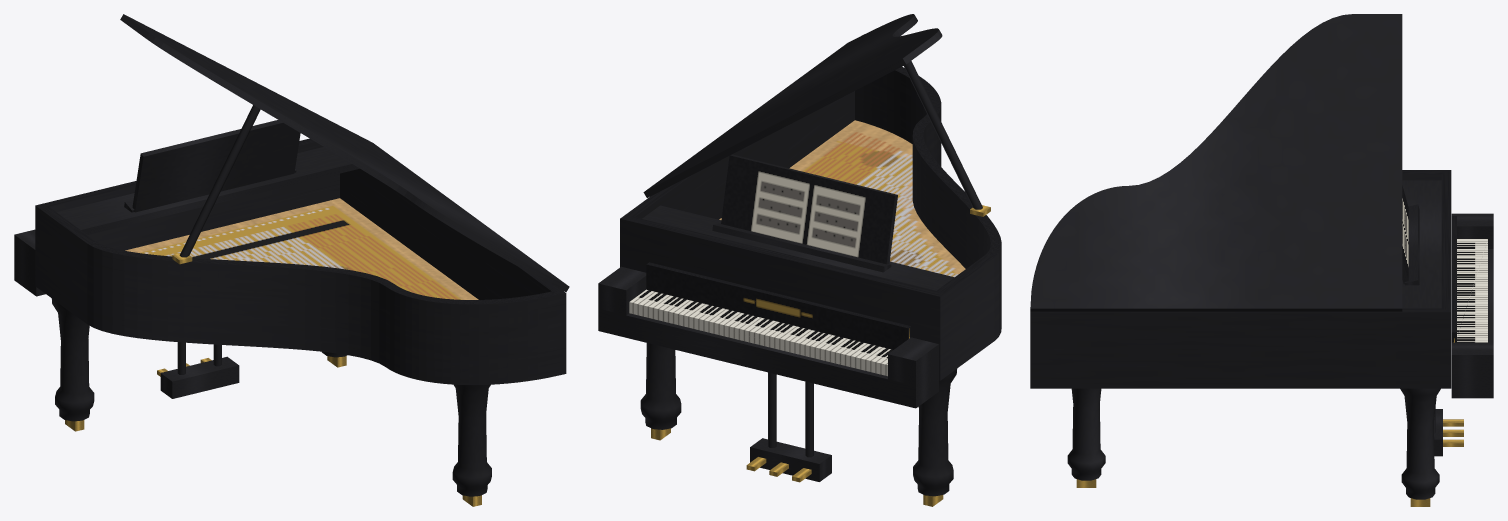
File: grandpiano.obj
The picture shows the model from 3 angles, left to right: view 1: azimuth 30°, elevation 25°; view 2: azimuth 150°, elevation 25°; view 3: azimuth 270°, elevation 25°; orthographic projection. The views are drawn at different scales.
Visible parts, largest first — view 1: grandpiano; view 2: grandpiano; view 3: grandpiano.
Boxes of the visible parts, x1,y1,x2,y2 form: grandpiano: [14, 14, 569, 506]; grandpiano: [598, 14, 1001, 506]; grandpiano: [1030, 14, 1493, 506].
Bounding box in the file's own units: 1.52 × 1.91 × 2.06.
